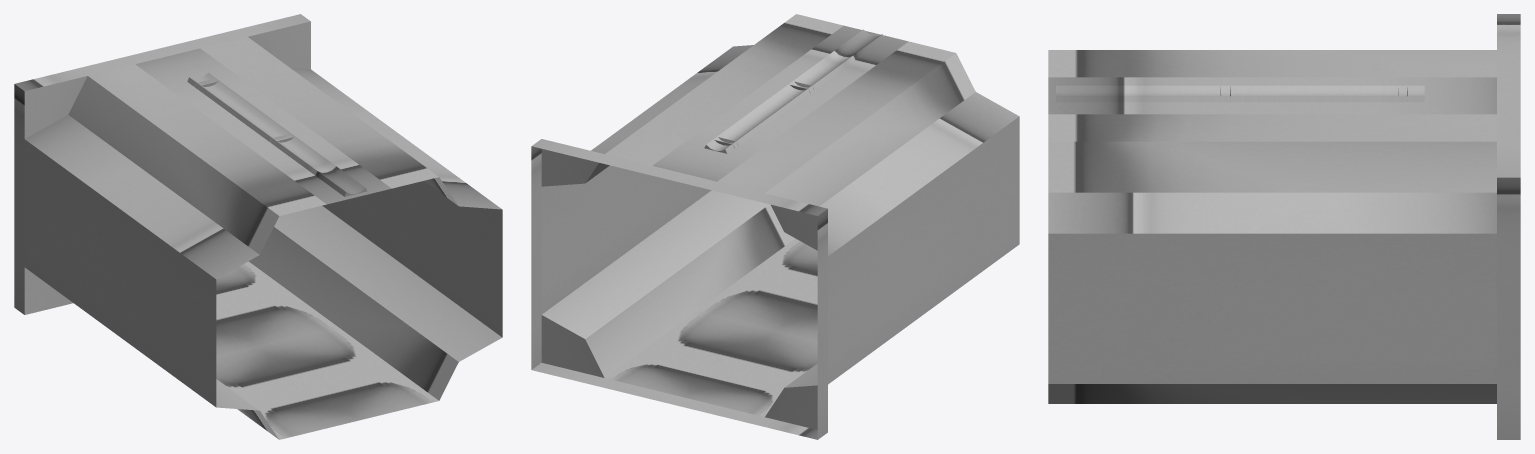
Rendered from corridorB.FBX.
The picture shows the model from 3 angles, left to right: view 1: azimuth 30°, elevation 25°; view 2: azimuth 150°, elevation 25°; view 3: azimuth 270°, elevation 25°; orthographic projection. The views are drawn at different scales.
Parts seen in each view (by area): view 1: corridorB; view 2: corridorB; view 3: corridorB.
Boxes of the visible parts, x1,y1,x2,y2 form: corridorB: (14,14,502,439); corridorB: (531,14,1019,439); corridorB: (1048,14,1520,439).
Bounding box in the file's own units: 14.4 × 17.57 × 10.96.
